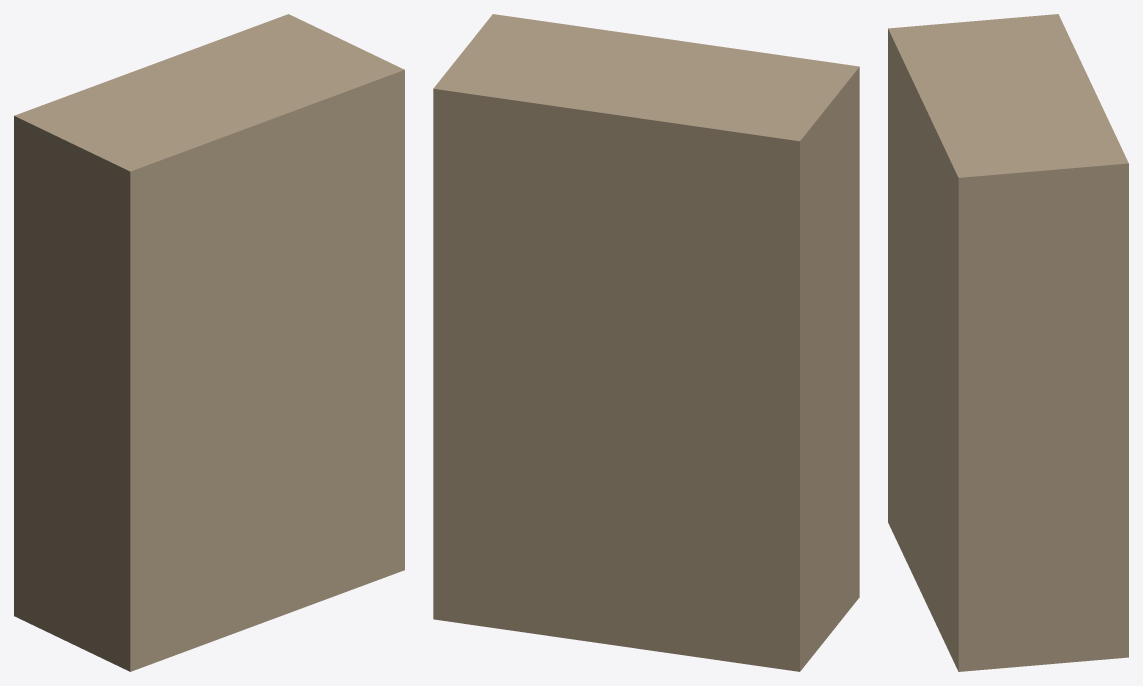
File: bld_393484281.dae
The picture shows the model from 3 angles, left to right: view 1: azimuth 30°, elevation 25°; view 2: azimuth 150°, elevation 25°; view 3: azimuth 270°, elevation 25°; orthographic projection. The views are drawn at different scales.
Visible parts, largest first — view 1: bld_393484281; view 2: bld_393484281; view 3: bld_393484281.
Boxes of the visible parts, left/top/right/bottom form: bld_393484281: left=14, top=14, right=404, bottom=671; bld_393484281: left=433, top=14, right=859, bottom=671; bld_393484281: left=888, top=14, right=1128, bottom=671.
Size of the model in its own units: 5.69 by 3.53 by 8.
